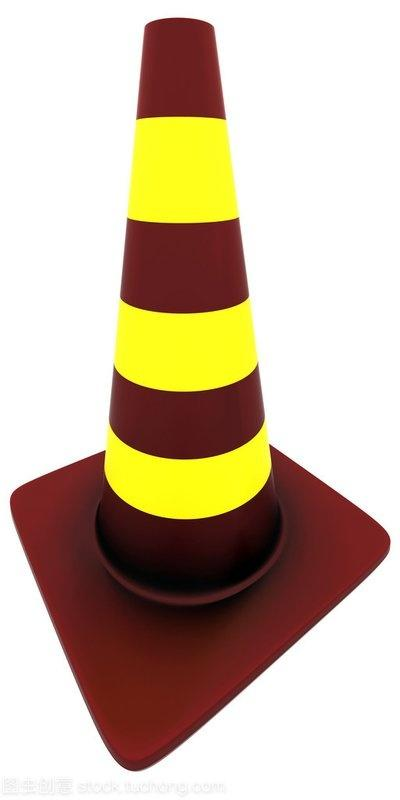cone_barrel: (81, 20, 299, 595)
